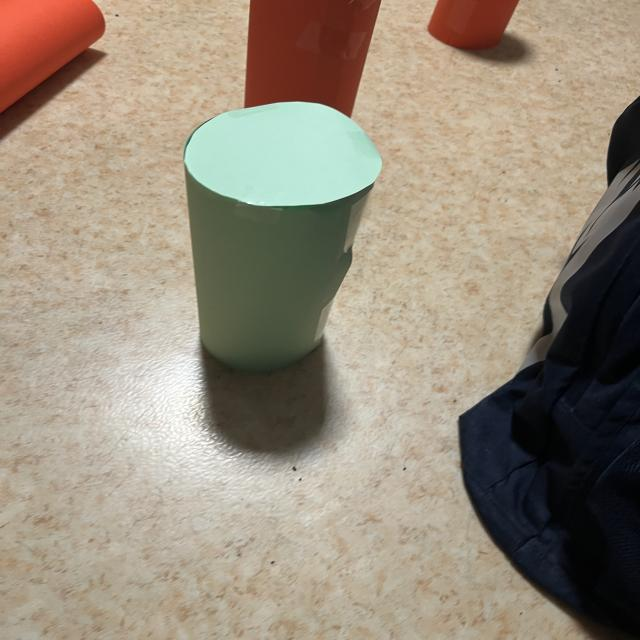meta: (183, 102, 381, 370)
przeszkoda: (244, 0, 380, 116)
